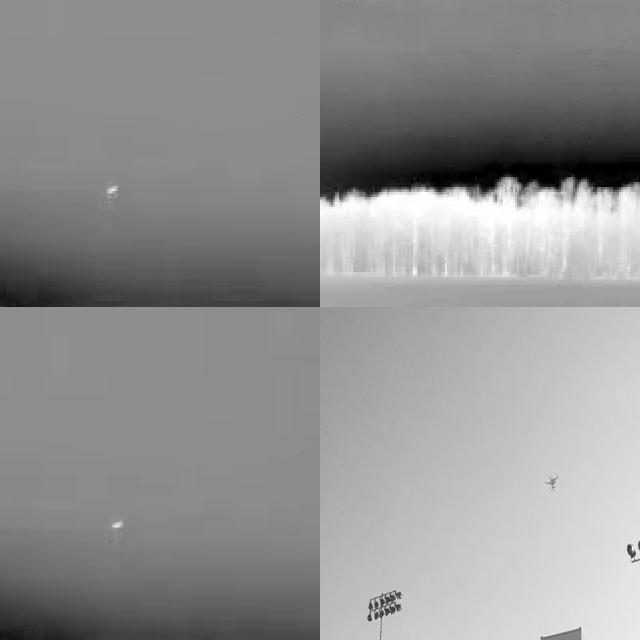1: (94, 174, 130, 216), (99, 510, 135, 550)
drone: (545, 474, 564, 498)
